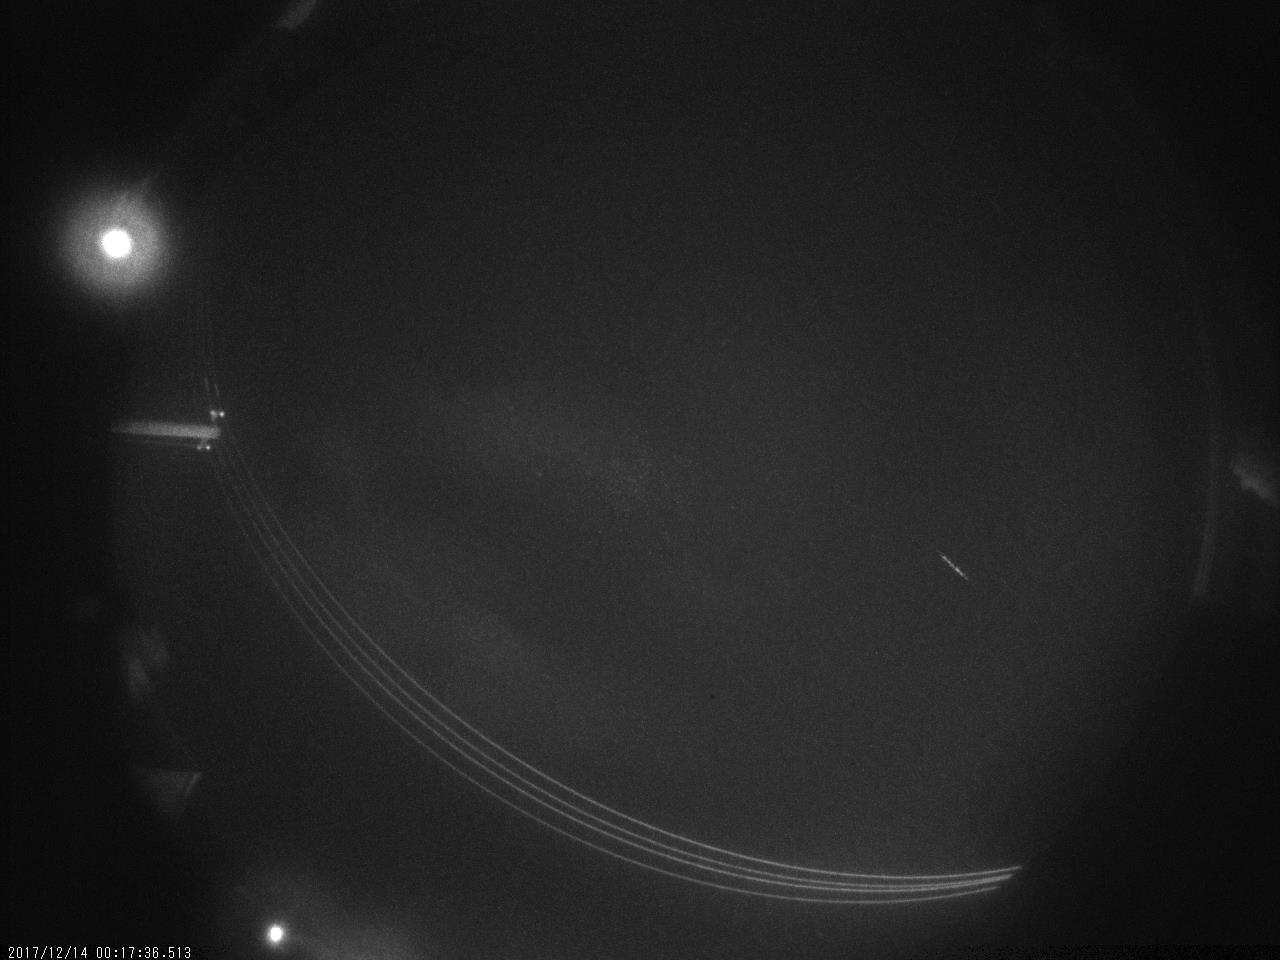meteor: (925, 541, 978, 594)
